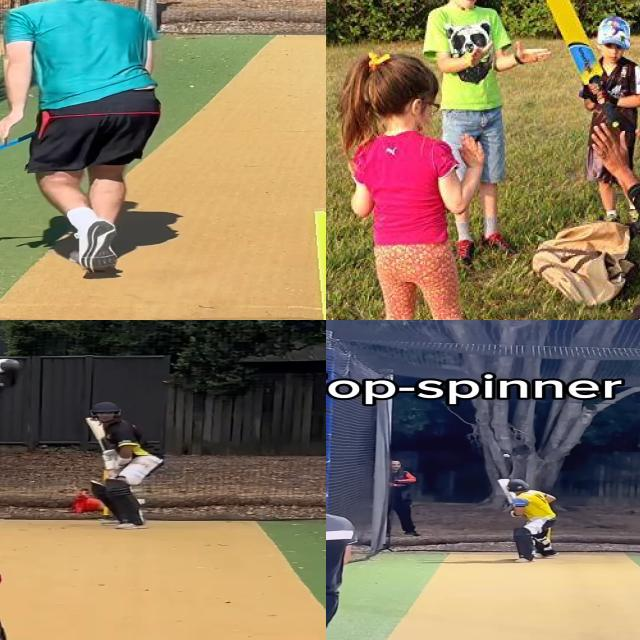Cricket ball: (503, 454, 510, 458)
